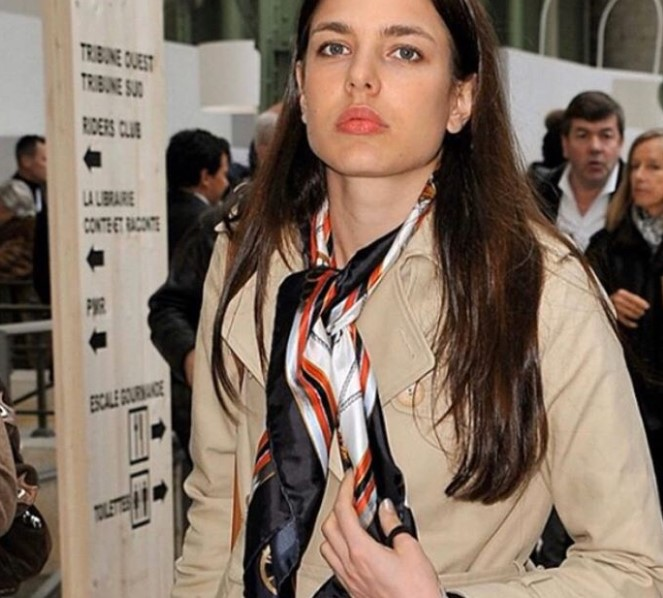face_no_mask: (284, 1, 492, 188), (557, 87, 625, 182), (166, 130, 234, 210), (622, 128, 660, 212)
